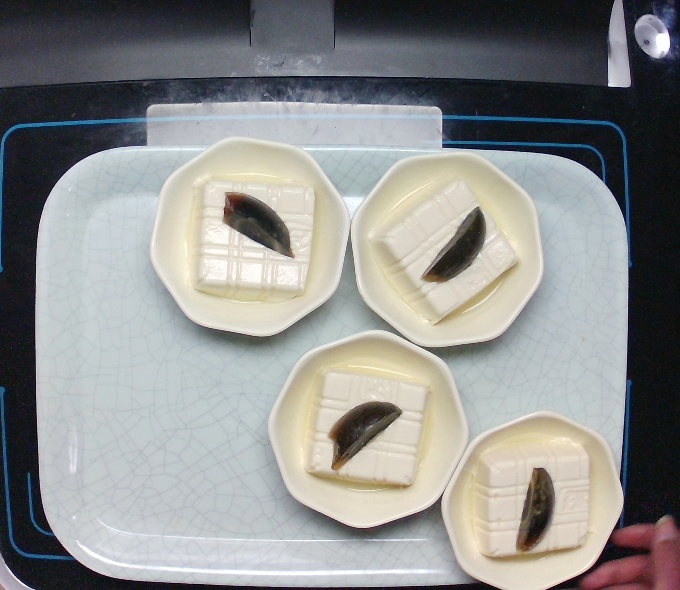wcq-PiDanDouFu: (363, 173, 522, 328), (186, 166, 323, 306), (464, 435, 599, 564), (302, 361, 431, 494)
